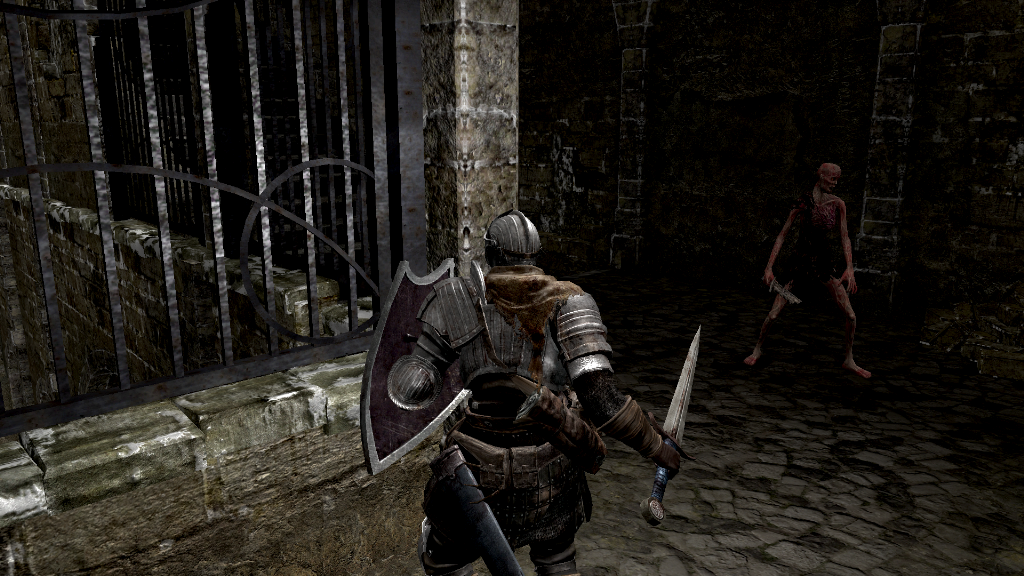hollow: (745, 163, 872, 380)
player: (359, 206, 704, 576)
